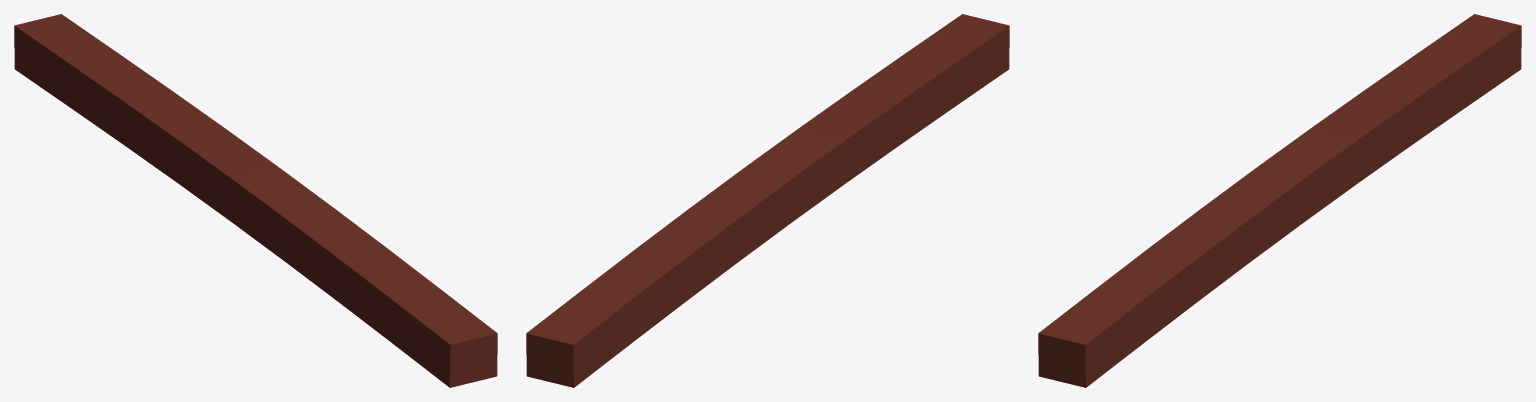
3 views of the same model, side by side, from view 1: azimuth 30°, elevation 25°; view 2: azimuth 150°, elevation 25°; view 3: azimuth 330°, elevation 25° (orthographic).
Visible parts, largest first — view 1: liang-seven-purlin@1.0.0; view 2: liang-seven-purlin@1.0.0; view 3: liang-seven-purlin@1.0.0.
Part boxes in pixels (<box>): liang-seven-purlin@1.0.0: <box>14,14,497,387</box>; liang-seven-purlin@1.0.0: <box>526,14,1009,387</box>; liang-seven-purlin@1.0.0: <box>1038,14,1521,387</box>.
Bounding box in the file's own units: 0.5 × 0.5001 × 8.
